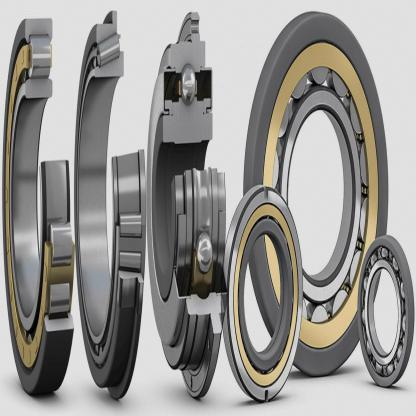FOD: (242, 6, 394, 382), (147, 6, 228, 407), (0, 10, 76, 398), (76, 5, 148, 408), (221, 186, 302, 406), (358, 228, 414, 395)
